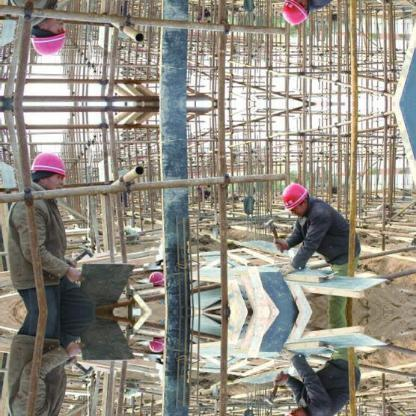helmet: (24, 149, 69, 184), (274, 179, 313, 214)
